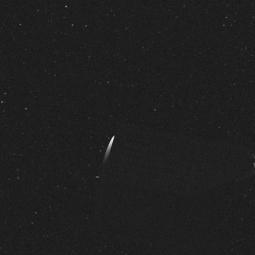cheops: (82, 118, 255, 252)
